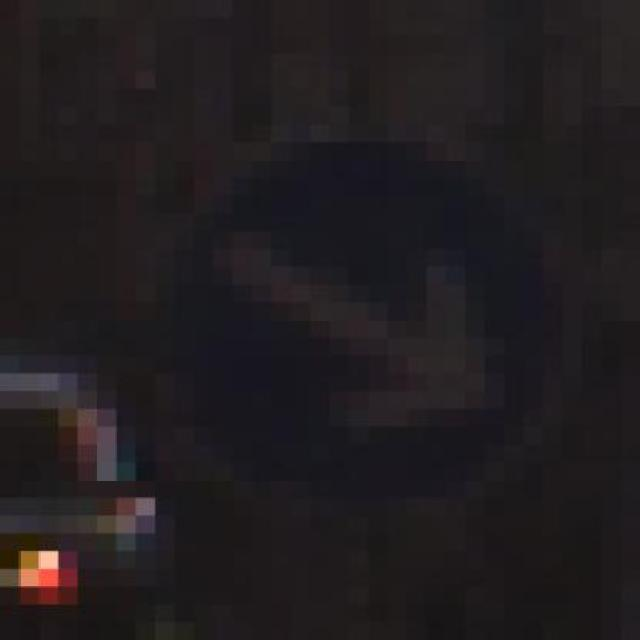Keep-Right: (116, 124, 582, 498)
